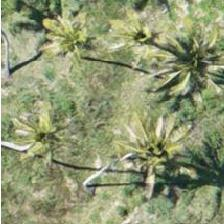coconut_tree: (115, 112, 205, 202), (140, 24, 223, 114)
